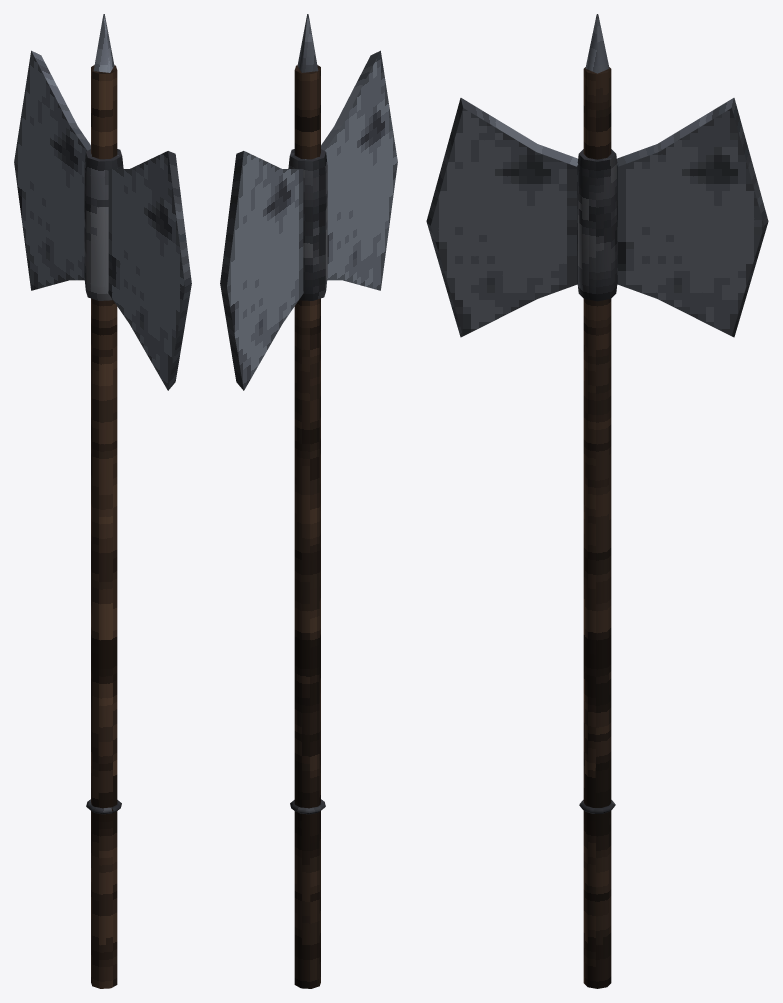
The model's file is great_axe.glb.
3 renders of one model, left to right at view 1: azimuth 30°, elevation 25°; view 2: azimuth 150°, elevation 25°; view 3: azimuth 270°, elevation 25°, orthographic.
Visible parts, largest first — view 1: great_axe; view 2: great_axe; view 3: great_axe.
Part boxes in pixels (x1,y1,x2,y2): great_axe: [14, 14, 191, 988]; great_axe: [220, 14, 397, 988]; great_axe: [426, 14, 768, 988].
Bounding box in the file's own units: 0.048 × 1.25 × 0.4.
1 material, 1 textured.
